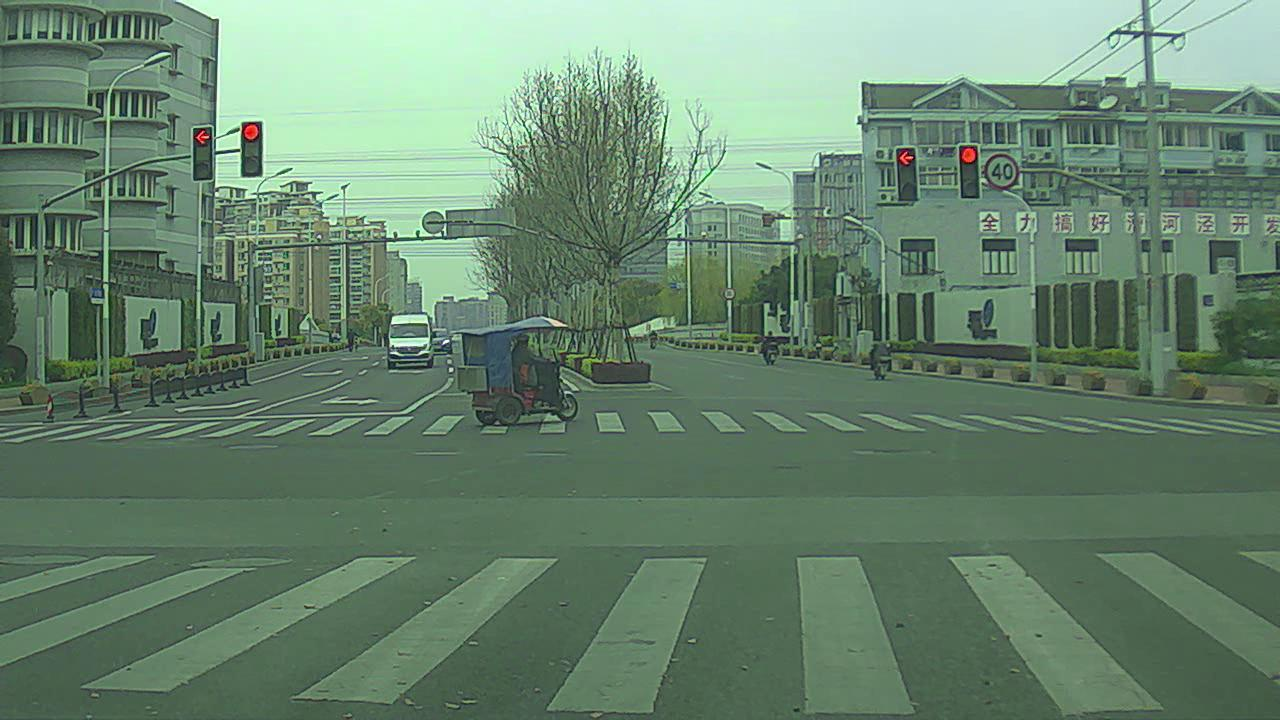traffic_light: (957, 142, 987, 201), (895, 146, 924, 203), (194, 123, 216, 181), (241, 120, 263, 176)
